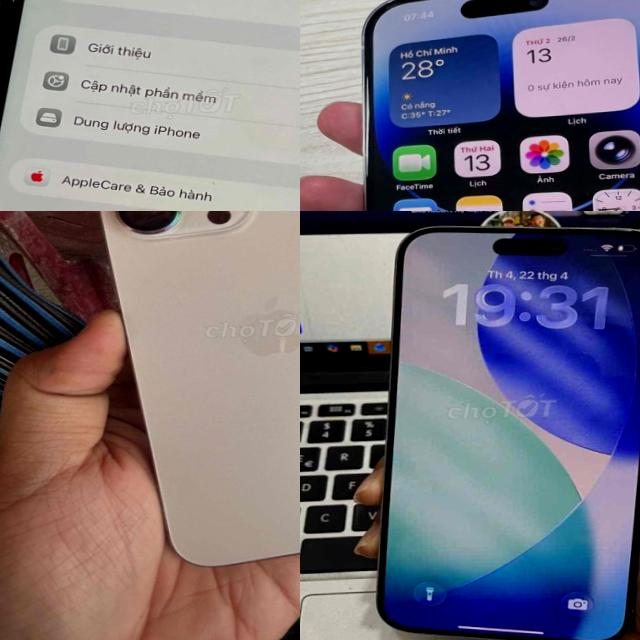gen_11: (0, 0, 300, 211)
gen_14: (347, 0, 640, 211)
gen_15: (365, 212, 640, 640)
gen_16: (98, 211, 300, 565)
